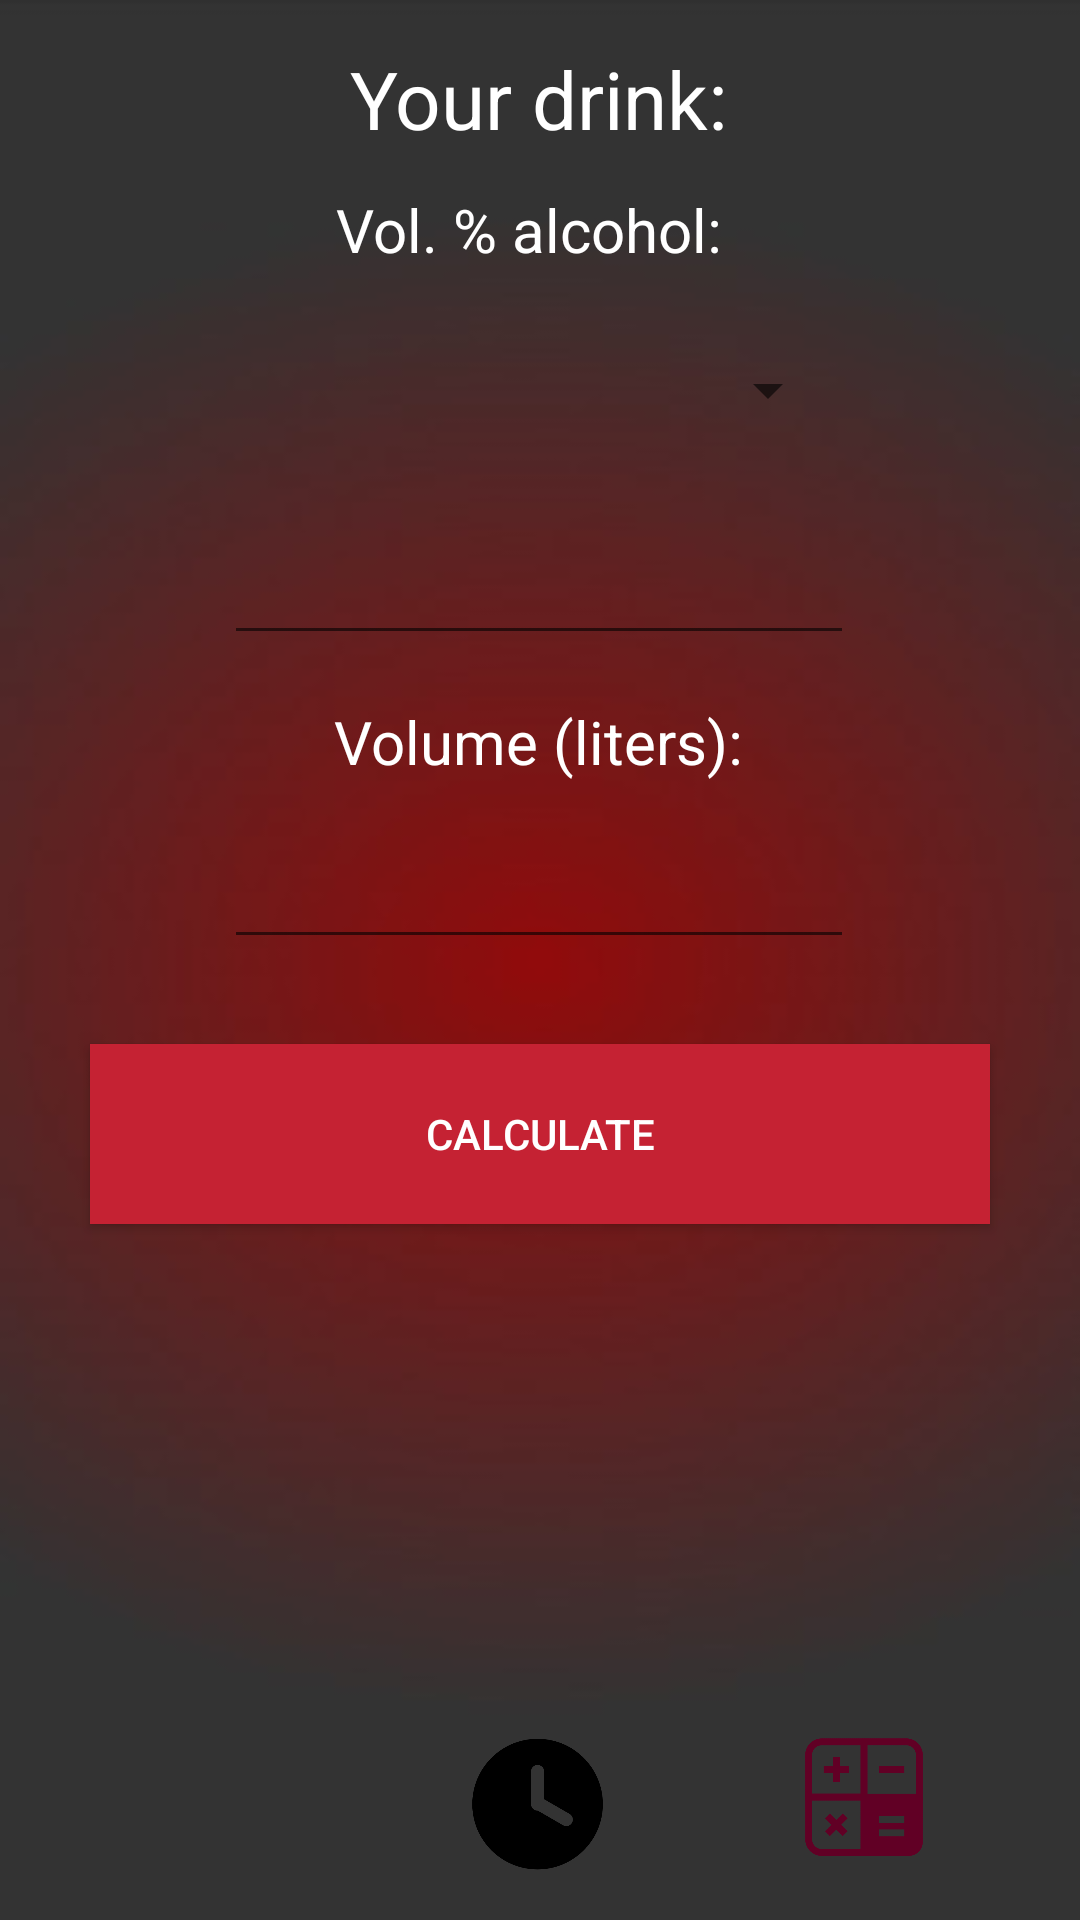

Icons on this 1080*1920 Android screen, each with its box as detection(x1, y1, x2, y2):
calc: detection(805, 1738, 923, 1856)
history: detection(472, 1739, 603, 1869)
